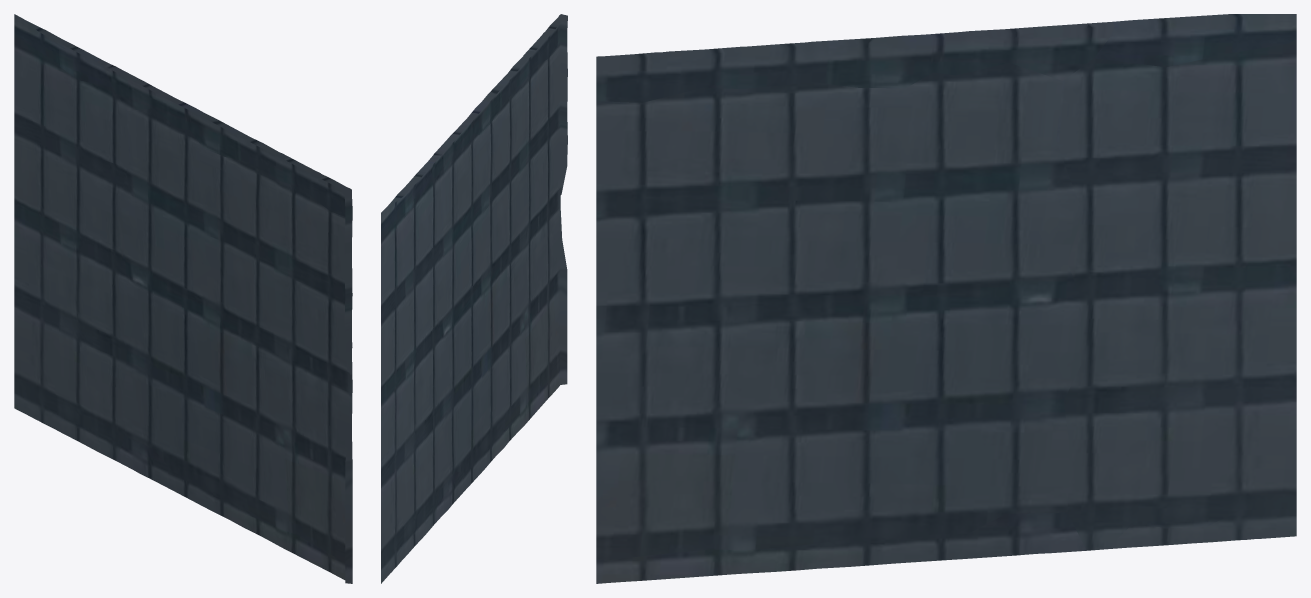
File: z20-167757-405235-h1-yup-uvflip-v3-world.glb
The picture shows the model from 3 angles, left to right: view 1: azimuth 30°, elevation 25°; view 2: azimuth 150°, elevation 25°; view 3: azimuth 270°, elevation 25°; orthographic projection. The views are drawn at different scales.
Bounding box in the file's own units: 4.88 × 24.96 × 30.32.
Materials: 1 (1 with a texture image).
